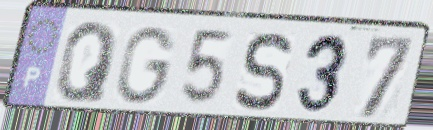3: (294, 30, 352, 118)
5: (178, 28, 234, 110)
7: (360, 32, 417, 122)
G: (114, 24, 179, 107)
Q: (53, 20, 121, 106)
S: (231, 29, 295, 113)
